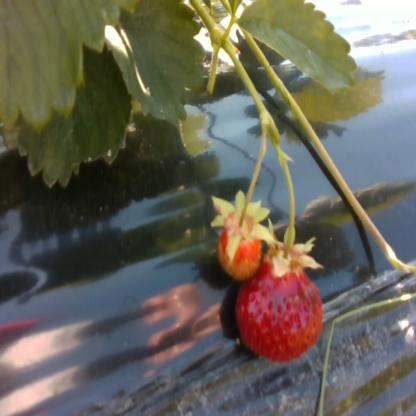ripe: (238, 250, 324, 354), (218, 211, 266, 276)
